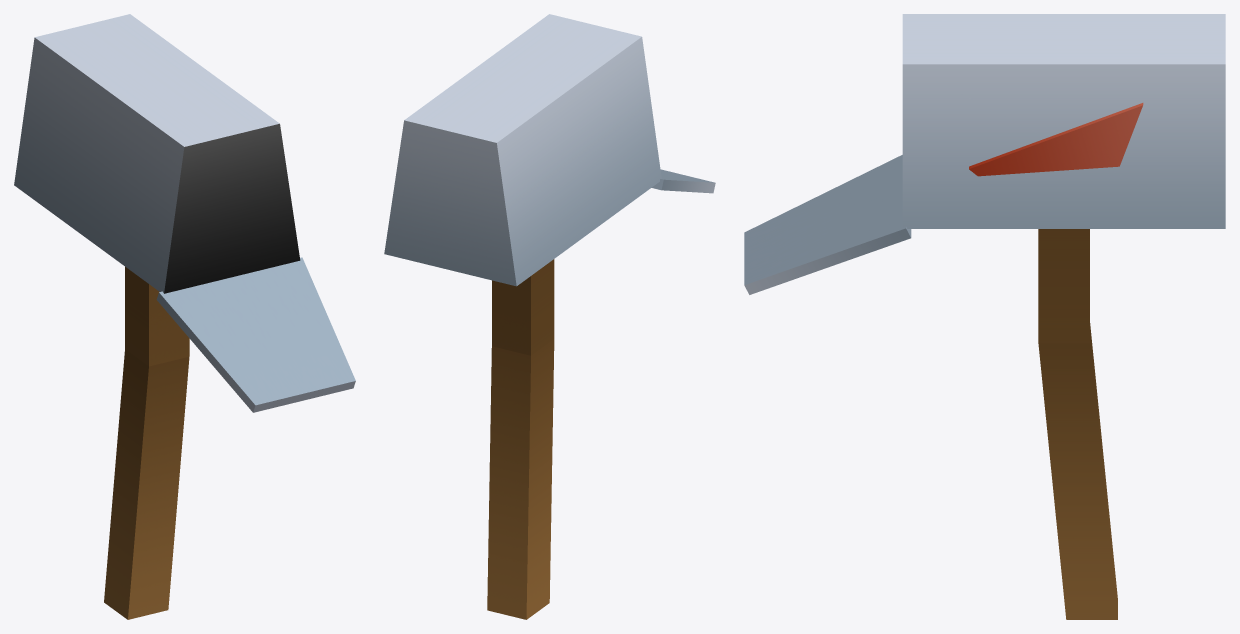
File: MailboxOpen.fbx
3 renders of one model, left to right at view 1: azimuth 30°, elevation 25°; view 2: azimuth 150°, elevation 25°; view 3: azimuth 270°, elevation 25°, orthographic. The views are drawn at different scales.
Visible parts, largest first — view 1: MailboxOpen; view 2: MailboxOpen; view 3: MailboxOpen.
Boxes of the visible parts, left/top/right/bottom form: MailboxOpen: left=14, top=14, right=355, bottom=619; MailboxOpen: left=384, top=14, right=715, bottom=619; MailboxOpen: left=744, top=14, right=1225, bottom=619.
Bounding box in the file's own units: 63.29 × 224 × 170.
